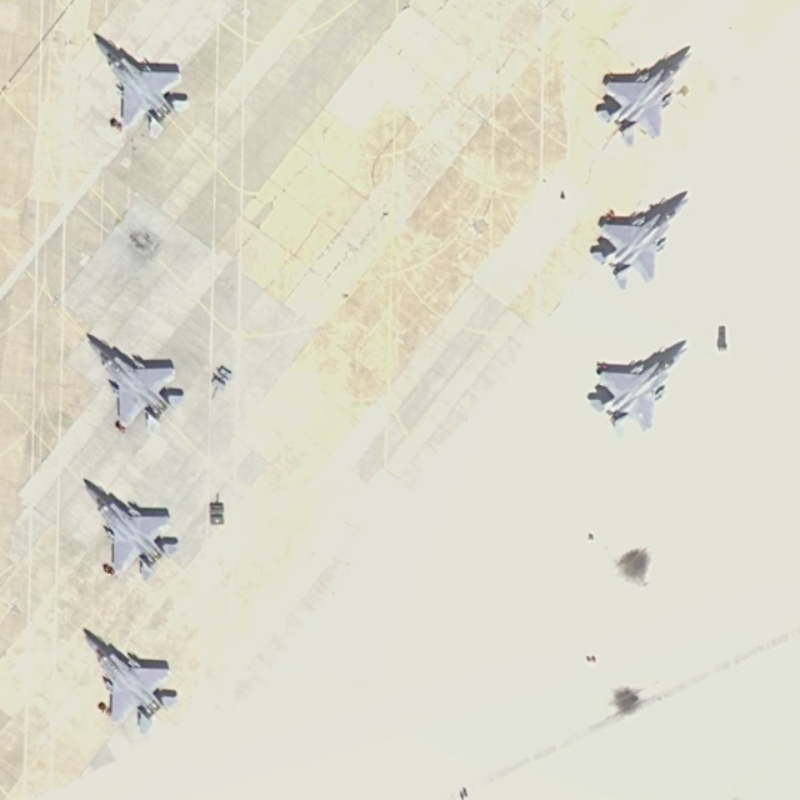A13: (82, 24, 202, 147), (76, 472, 190, 584), (76, 622, 183, 740), (582, 186, 698, 294), (580, 329, 694, 438), (588, 41, 700, 150), (82, 329, 192, 437)
